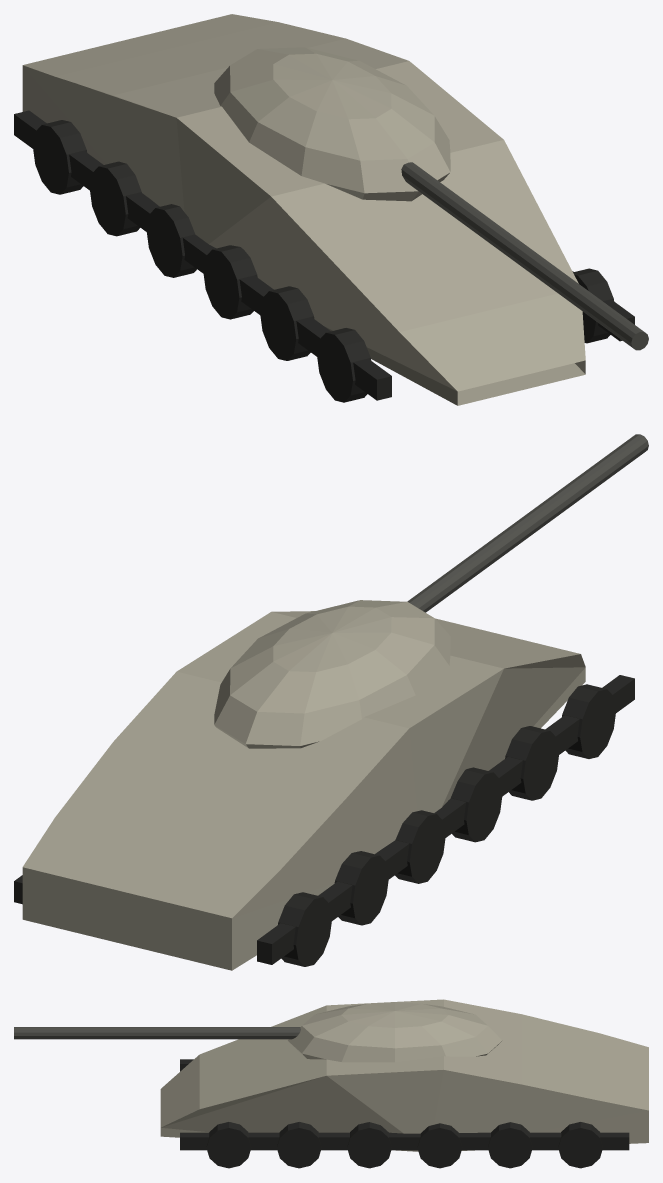
3 views of the same model, one above another, from view 1: azimuth 30°, elevation 25°; view 2: azimuth 150°, elevation 25°; view 3: azimuth 270°, elevation 25° (orthographic). The views are drawn at different scales.
Parts seen in each view (by area): view 1: Hull, Turret, Gun, Track_L, Wheel_L_02, Wheel_L_06, Wheel_L_01, Wheel_L_03, Wheel_L_05, Wheel_L_04, Wheel_R_01; view 2: Hull, Turret, Gun, Track_L, Wheel_L_01, Wheel_L_06, Wheel_L_02, Wheel_L_05, Wheel_L_03, Wheel_L_04; view 3: Hull, Turret, Track_R, Gun, Wheel_R_02, Wheel_R_01, Wheel_R_06, Wheel_R_05, Wheel_R_03, Wheel_R_04.
Boxes of the visible parts, <box> form: Hull: <box>22,14,585,405</box>; Turret: <box>214,47,450,201</box>; Gun: <box>401,162,648,350</box>; Track_L: <box>14,110,391,400</box>; Wheel_L_02: <box>260,286,314,360</box>; Wheel_L_06: <box>33,120,87,194</box>; Wheel_L_01: <box>317,328,371,402</box>; Wheel_L_03: <box>203,245,257,319</box>; Wheel_L_05: <box>89,161,141,236</box>; Wheel_L_04: <box>146,204,196,277</box>; Wheel_R_01: <box>573,268,613,343</box>; Hull: <box>22,611,585,970</box>; Turret: <box>214,600,450,748</box>; Gun: <box>407,434,648,612</box>; Track_L: <box>257,675,634,964</box>; Wheel_L_01: <box>562,684,616,758</box>; Wheel_L_06: <box>278,892,331,966</box>; Wheel_L_02: <box>505,726,559,800</box>; Wheel_L_05: <box>334,851,388,925</box>; Wheel_L_03: <box>450,767,502,842</box>; Wheel_L_04: <box>395,810,445,883</box>; Hull: <box>160,999,648,1151</box>; Turret: <box>287,1002,502,1062</box>; Track_R: <box>180,1132,629,1150</box>; Gun: <box>14,1027,300,1039</box>; Wheel_R_02: <box>277,1122,321,1168</box>; Wheel_R_01: <box>206,1122,251,1168</box>; Wheel_R_06: <box>558,1122,602,1168</box>; Wheel_R_05: <box>488,1122,532,1168</box>; Wheel_R_03: <box>347,1122,391,1168</box>; Wheel_R_04: <box>417,1123,462,1168</box>.
Size of the model in its own units: 3.12 by 2.15 by 10.53.
